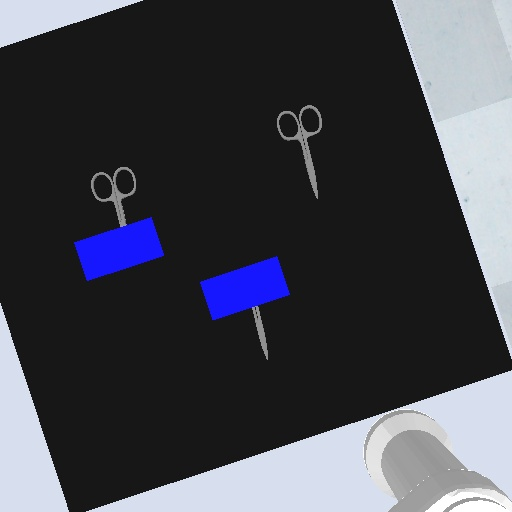tijera: (273, 101, 328, 201), (87, 164, 139, 230), (250, 303, 272, 363)
